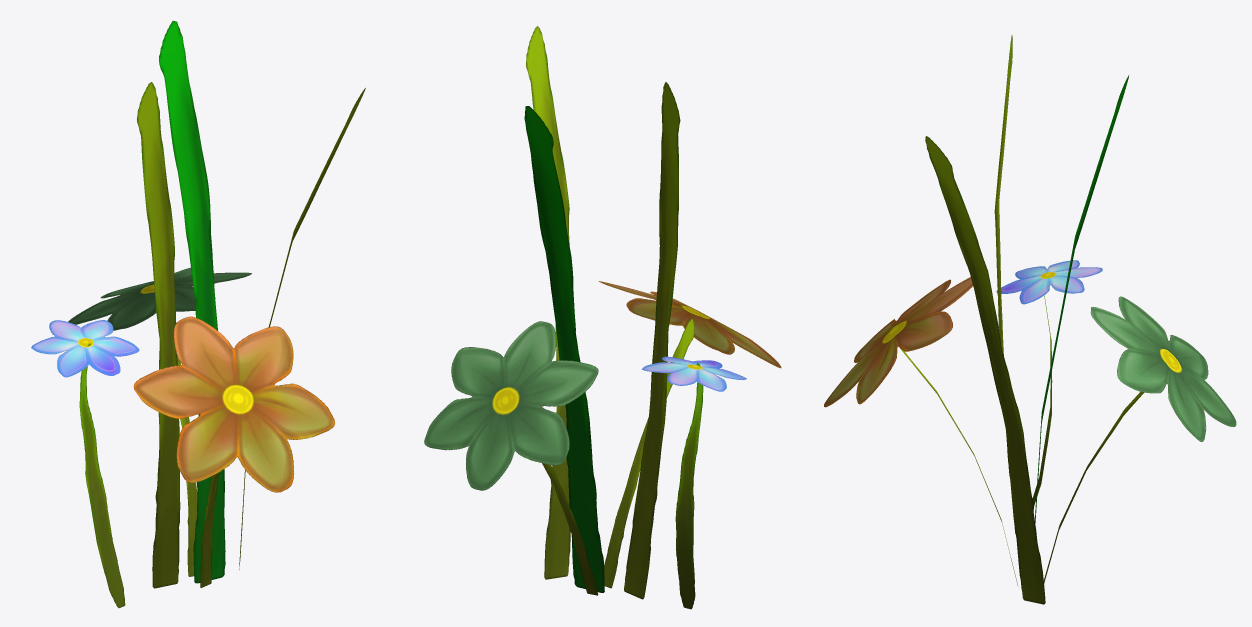
The model's file is 18_Arbustitos_Flores.fbx.
3 renders of one model, left to right at view 1: azimuth 30°, elevation 25°; view 2: azimuth 150°, elevation 25°; view 3: azimuth 270°, elevation 25°, orthographic.
Parts seen in each view (by area): view 1: Follage.084; view 2: Follage.084; view 3: Follage.084.
Part boxes in pixels (bbox=[...]): Follage.084: bbox=[31, 21, 365, 607]; Follage.084: bbox=[424, 26, 781, 609]; Follage.084: bbox=[824, 35, 1236, 604].
Bounding box in the file's own units: 38.63 × 69.7 × 48.67.
